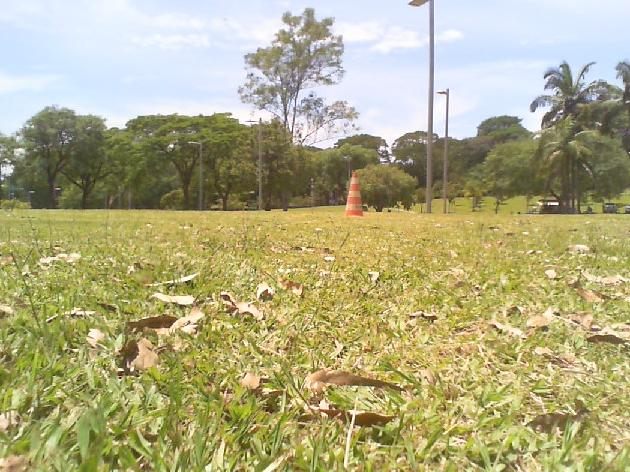0 cone: (345, 172, 365, 217)
